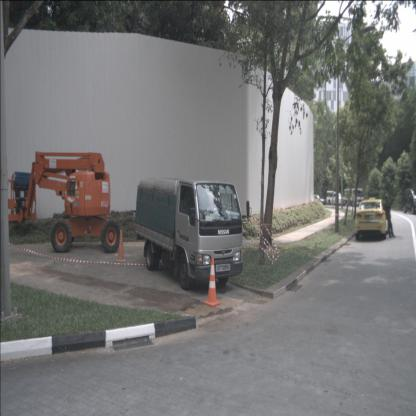cone: (204, 258, 220, 307), (115, 229, 126, 263)
